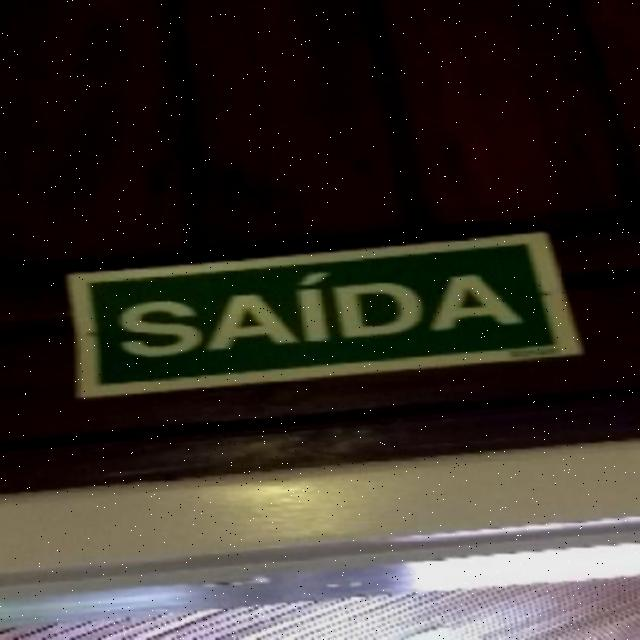emergency_exit: (65, 230, 586, 401)
